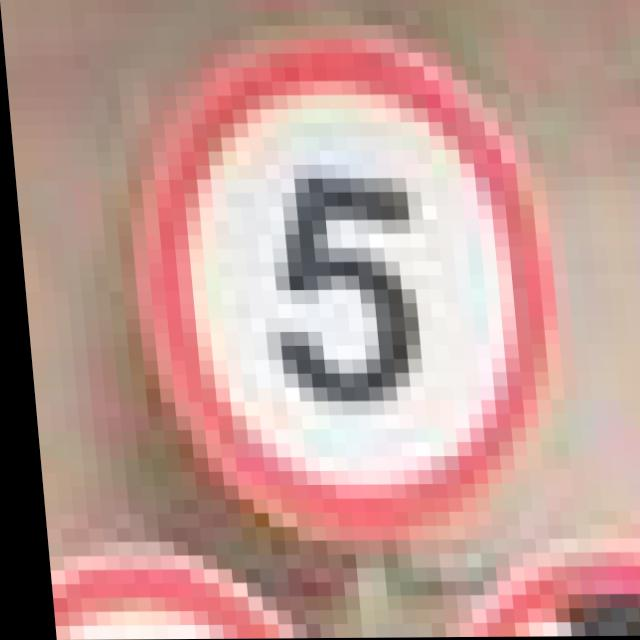SPEED_LIMIT_5: (104, 36, 562, 513)
